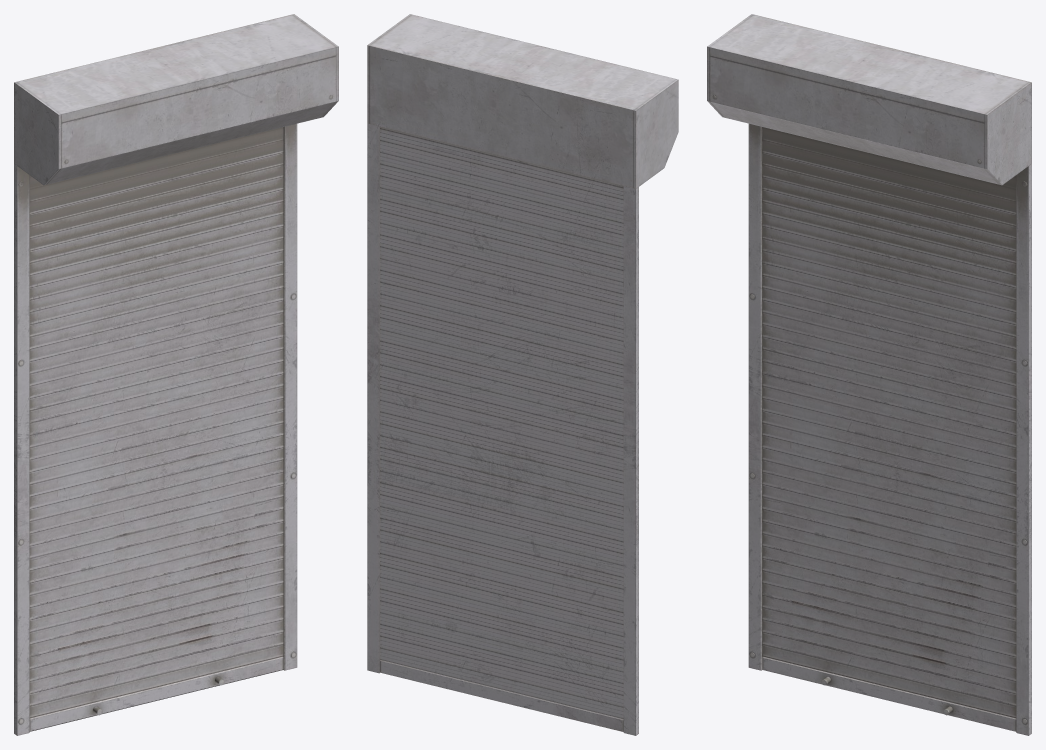
File: RollerShutterDoor.obj
3 views of the same model, side by side, from view 1: azimuth 30°, elevation 25°; view 2: azimuth 150°, elevation 25°; view 3: azimuth 330°, elevation 25° (orthographic). The views are drawn at different scales.
Parts seen in each view (by area): view 1: rollershutter_door; view 2: rollershutter_door; view 3: rollershutter_door.
Part boxes in pixels (x1,y1,x2,y2): rollershutter_door: (14, 14, 338, 735); rollershutter_door: (367, 14, 678, 735); rollershutter_door: (707, 14, 1031, 735).
Bounding box in the file's own units: 1.08 × 2.4 × 0.3.
Materials: 1 (1 with a texture image).
